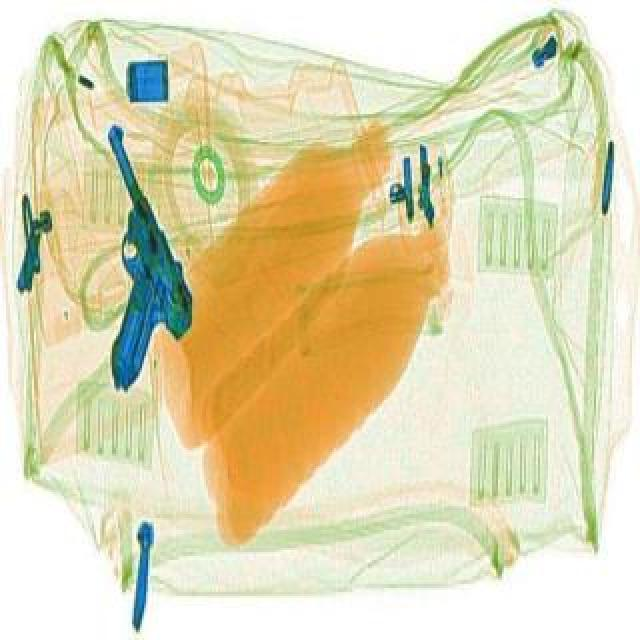gun: (78, 132, 214, 398)
